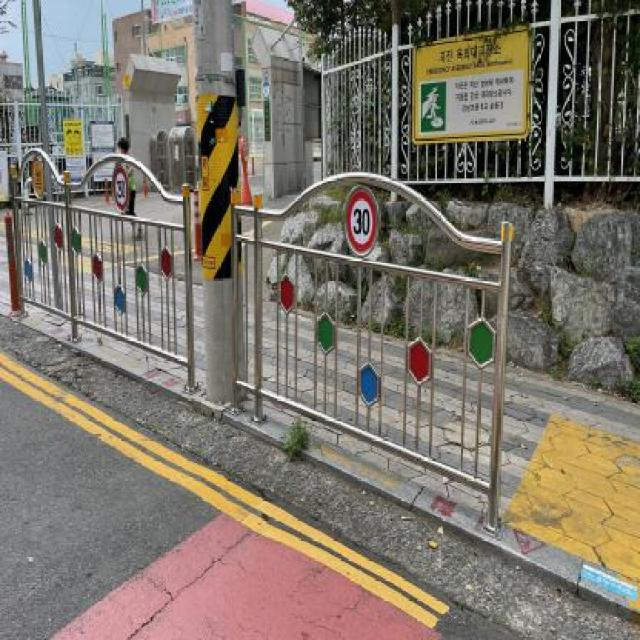fence: (234, 156, 544, 528), (313, 20, 640, 214), (11, 126, 210, 442)
